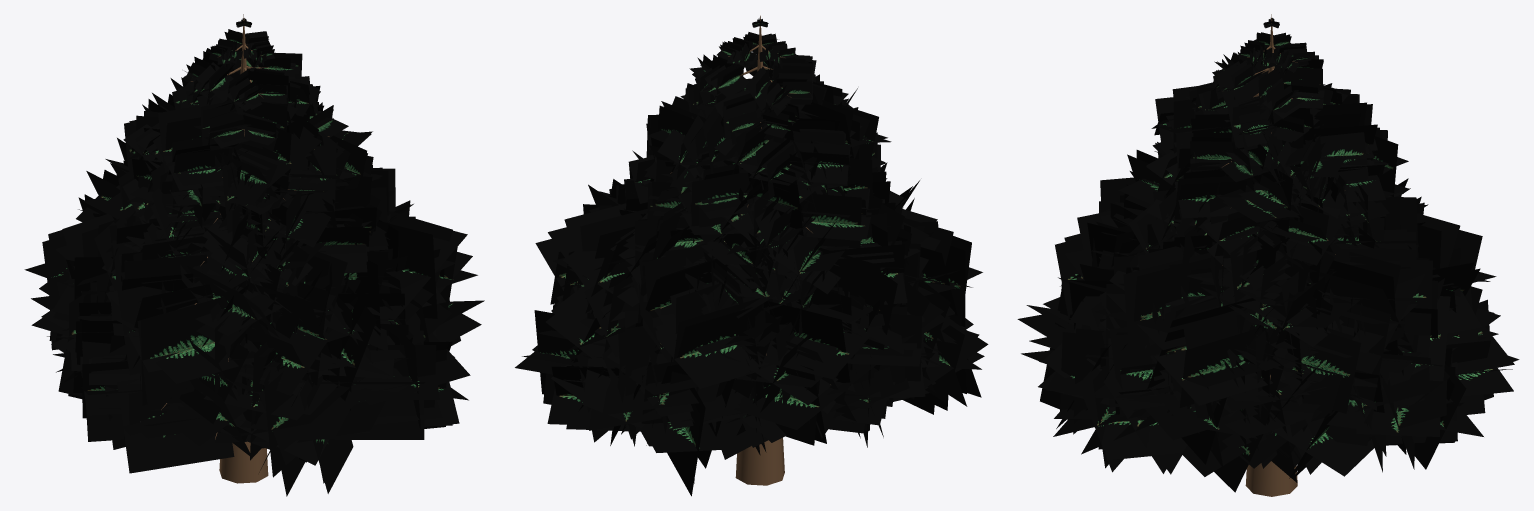
File: spruce_.glb
The picture shows the model from 3 angles, left to right: view 1: azimuth 30°, elevation 25°; view 2: azimuth 150°, elevation 25°; view 3: azimuth 270°, elevation 25°; orthographic projection. The views are drawn at different scales.
Visible parts, largest first — view 1: Foliage Cards · текстура хвои, Ствол и ветви; view 2: Foliage Cards · текстура хвои, Ствол и ветви; view 3: Foliage Cards · текстура хвои, Ствол и ветви.
Boxes of the visible parts, box(x1,y1,x2,y2) form: Foliage Cards · текстура хвои: box(24, 18, 484, 496); Ствол и ветви: box(161, 14, 329, 483); Foliage Cards · текстура хвои: box(515, 18, 988, 496); Ствол и ветви: box(670, 15, 826, 485); Foliage Cards · текстура хвои: box(1017, 18, 1519, 492); Ствол и ветви: box(1211, 14, 1335, 496).
Bounding box in the file's own units: 5.34 × 6 × 5.79.
Materials: 2 (1 with a texture image).
